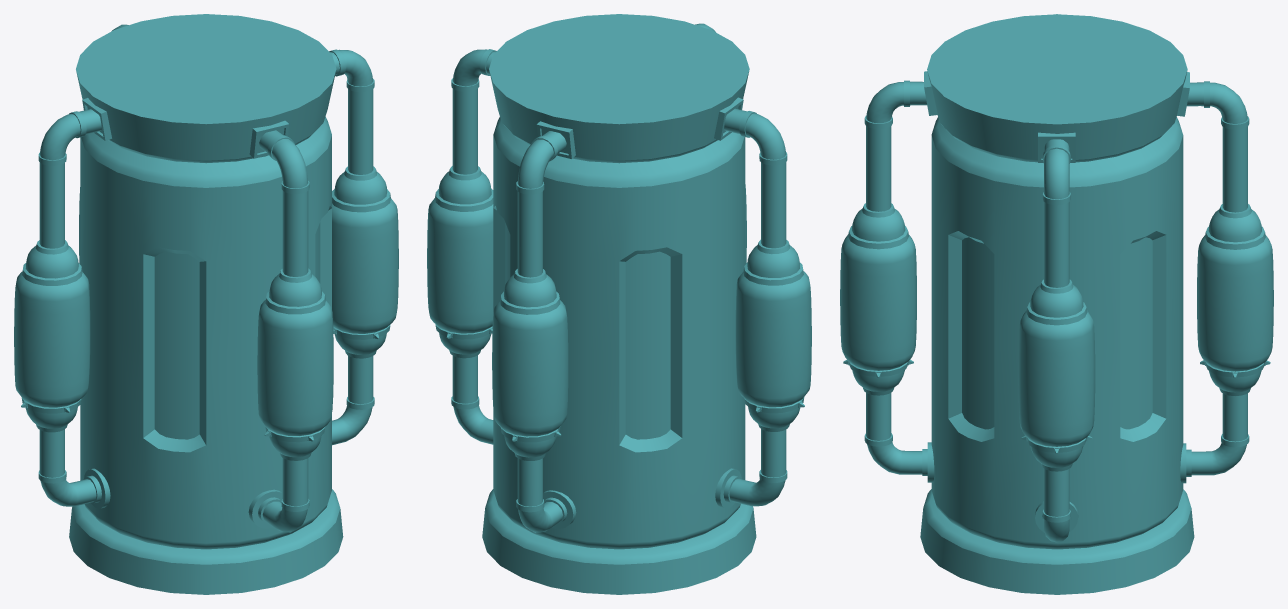
File: Engine.fbx
3 renders of one model, left to right at view 1: azimuth 30°, elevation 25°; view 2: azimuth 150°, elevation 25°; view 3: azimuth 270°, elevation 25°, orthographic.
Visible parts, largest first — view 1: polySurface121; view 2: polySurface121; view 3: polySurface121.
Boxes of the visible parts, bbox=[...] form: polySurface121: bbox=[14, 14, 398, 594]; polySurface121: bbox=[427, 14, 811, 594]; polySurface121: bbox=[840, 14, 1273, 594].
Size of the model in its own units: 341 by 407 by 342.
